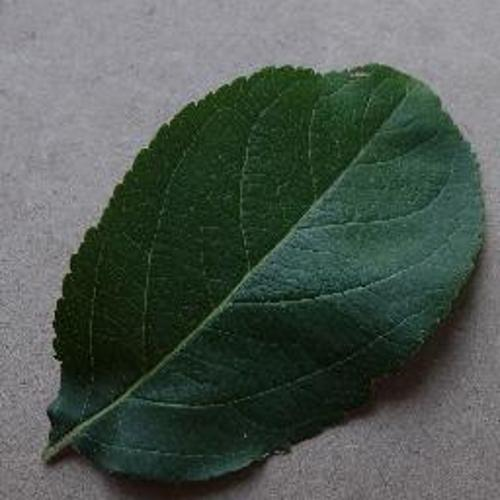Apple: (44, 66, 483, 481)
